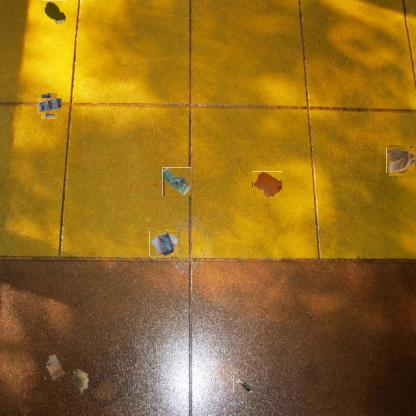dirty: (162, 167, 191, 196), (150, 229, 179, 258), (387, 146, 416, 174), (44, 352, 68, 380), (70, 368, 90, 394), (38, 96, 60, 116), (233, 375, 254, 393)
liquid: (252, 171, 282, 198), (42, 0, 66, 25)
